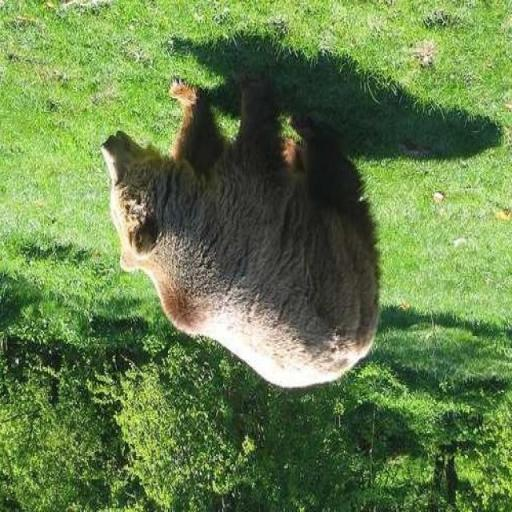Bear: (99, 72, 381, 390)
